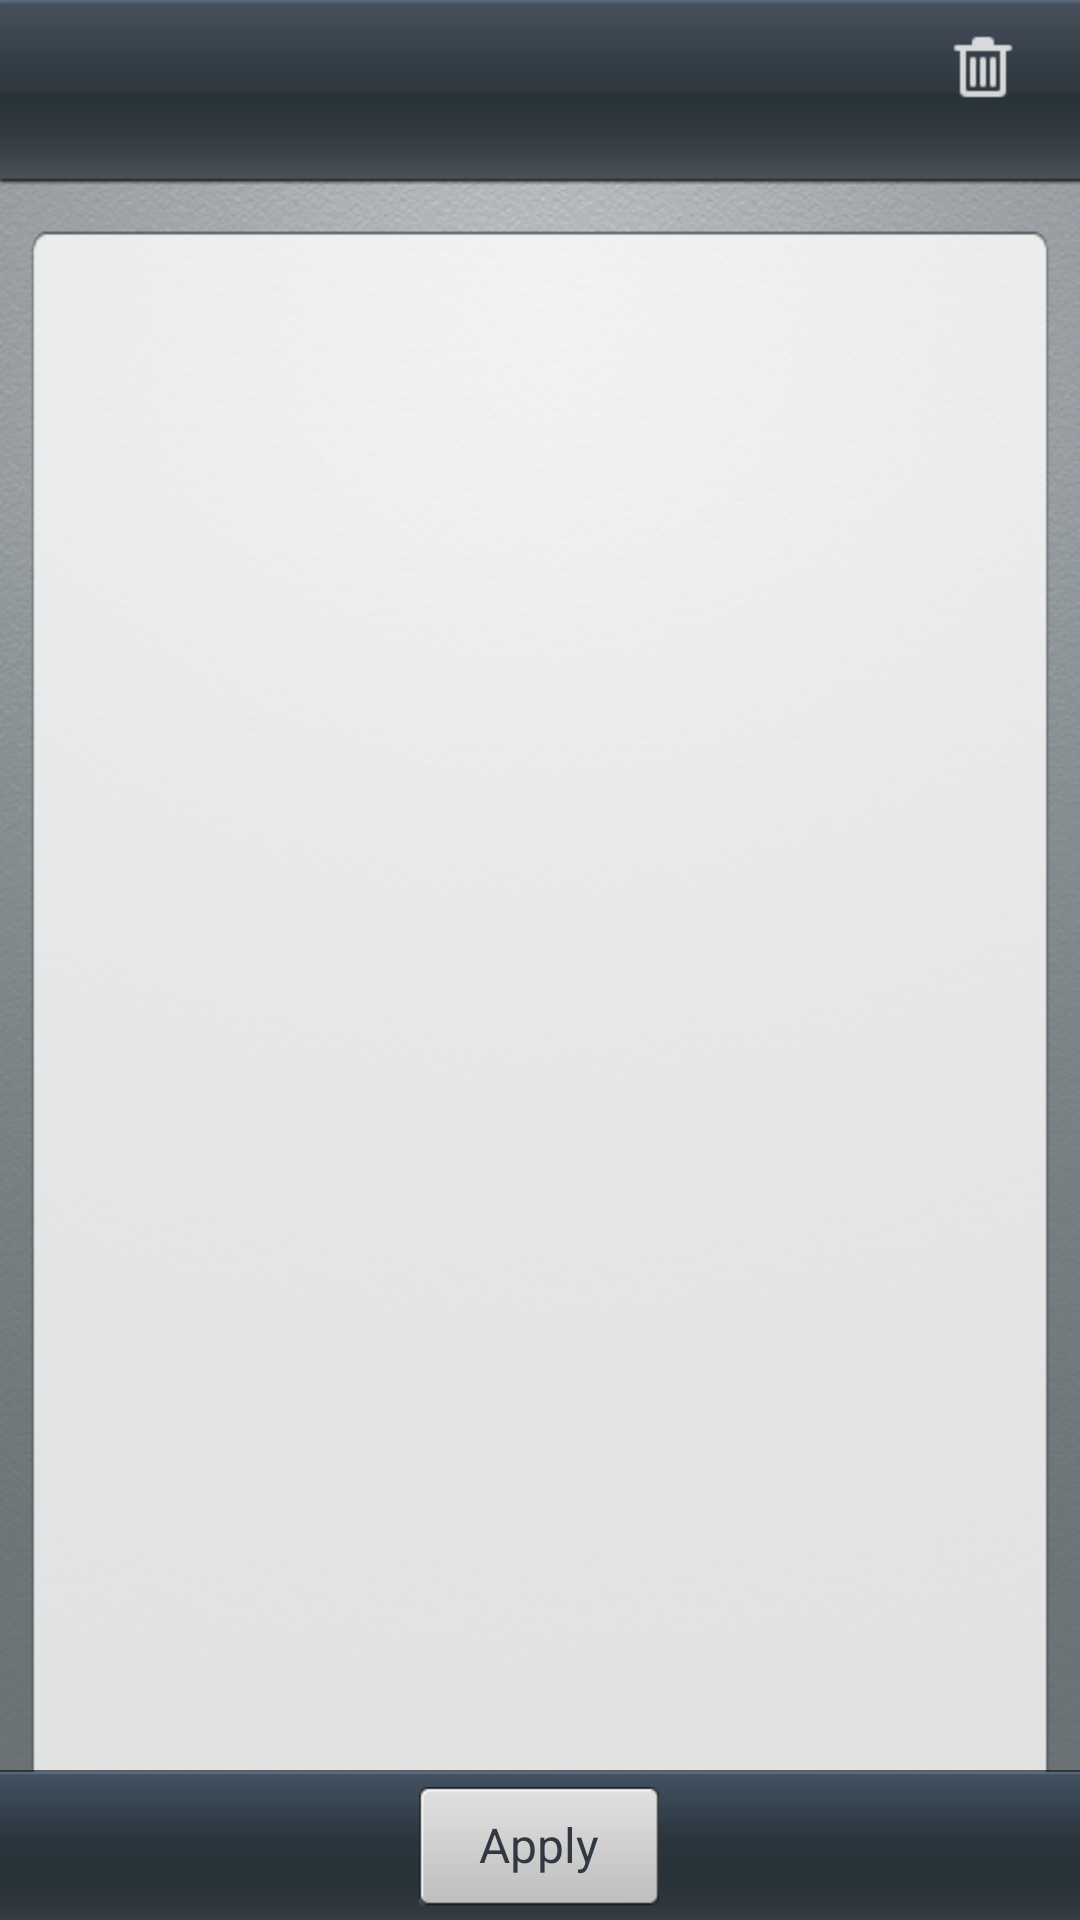

Named icons in this screenshot (1080 x 1920) and their bounding boxes, bbox(x1, y1, x2, y2):
theme delete: bbox(953, 36, 1013, 98)
